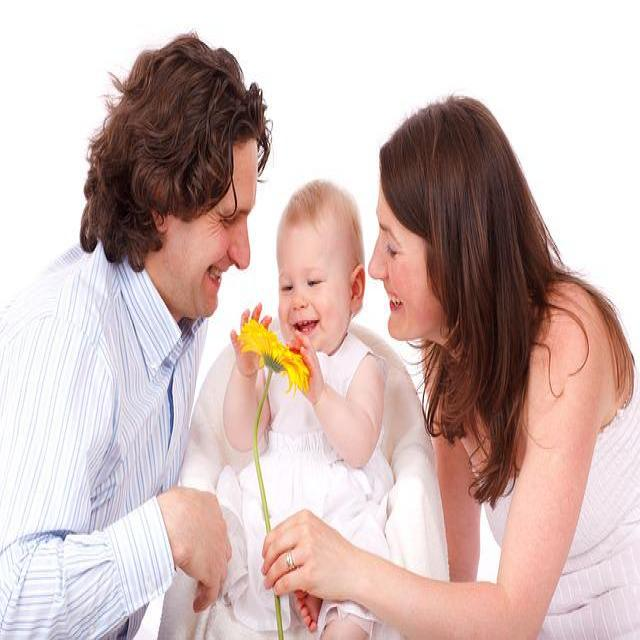adult: (261, 84, 640, 639), (1, 25, 275, 640)
child: (214, 176, 396, 640)
